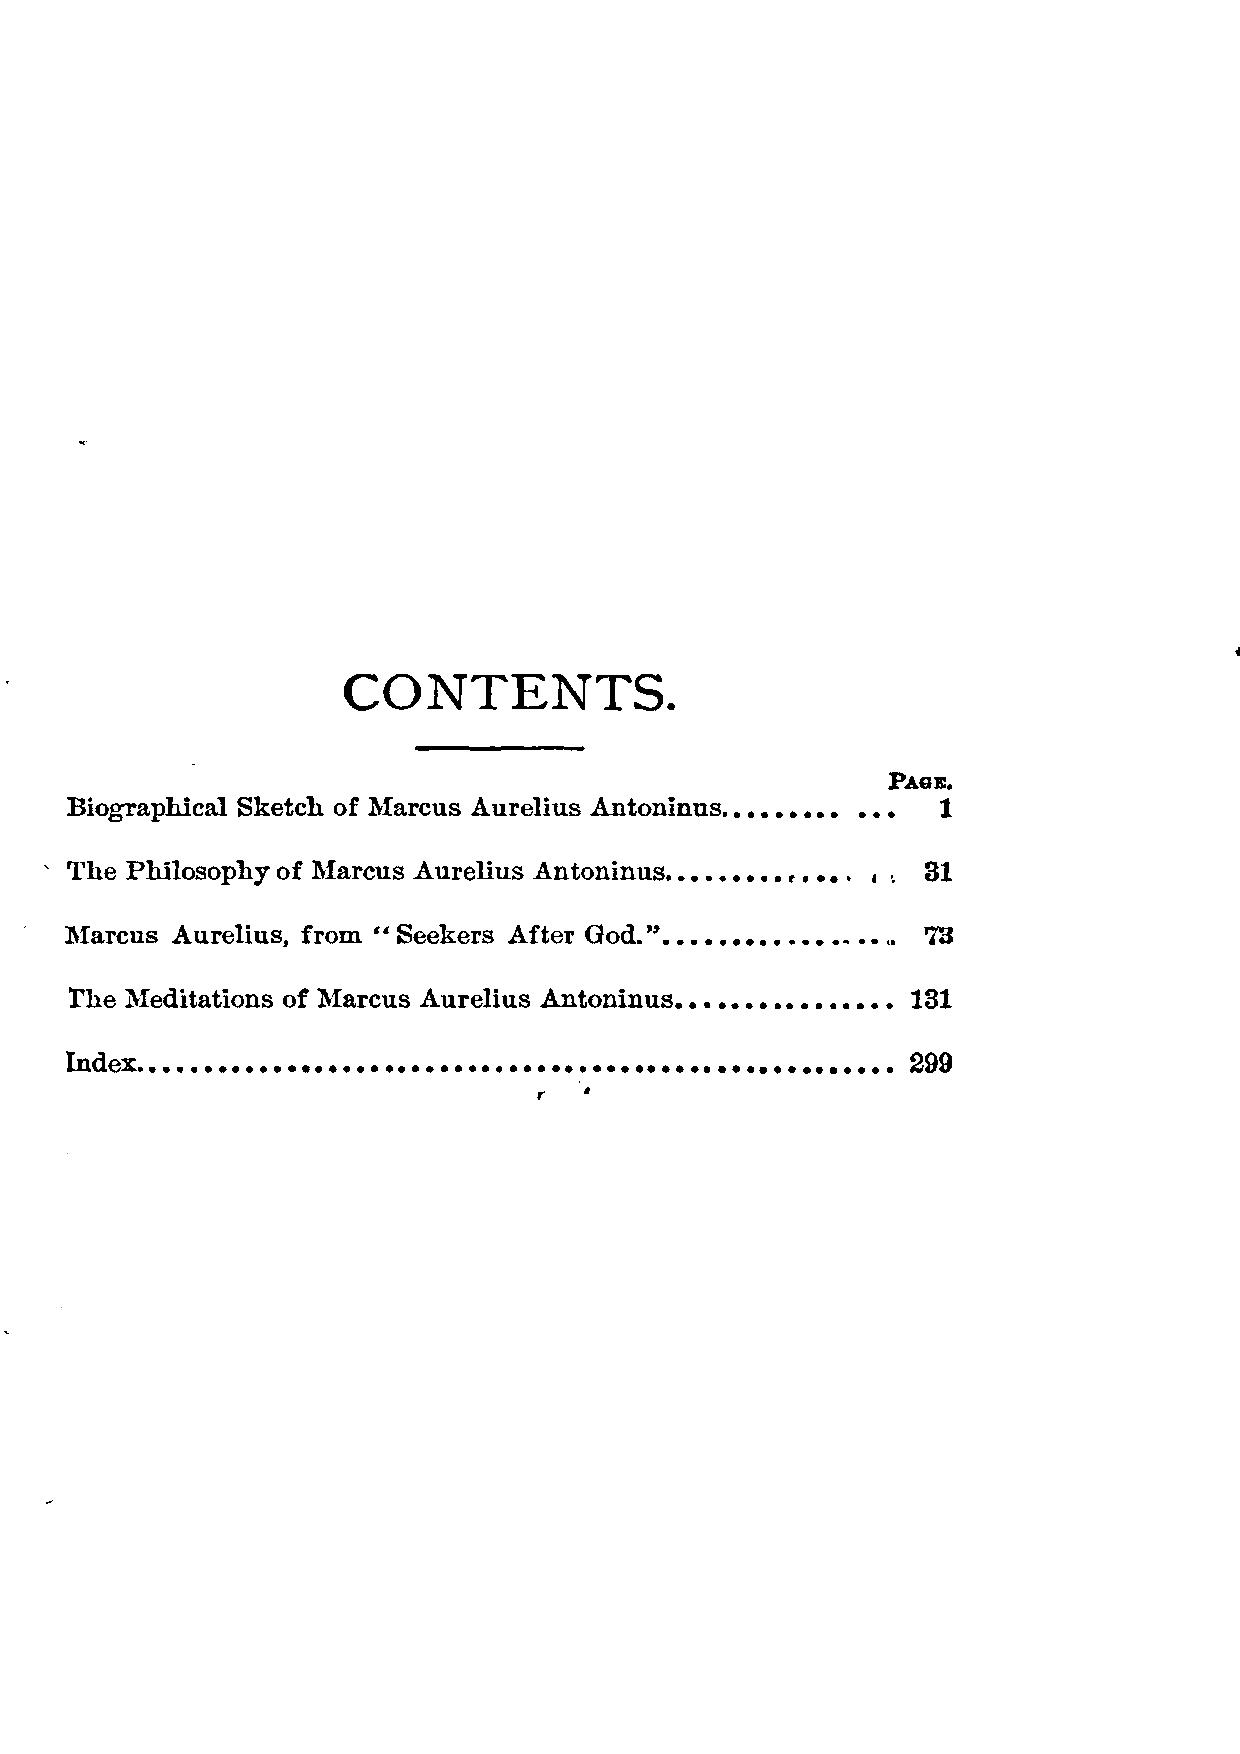TOC_chapter: (60, 849, 667, 883), (66, 793, 722, 824), (62, 919, 659, 951), (60, 982, 680, 1013), (60, 1044, 141, 1076)
TOC_pagenumber: (905, 1049, 955, 1078), (910, 986, 953, 1012), (922, 921, 958, 947), (919, 854, 953, 882), (933, 792, 957, 821)
chapter: (337, 666, 675, 717)
